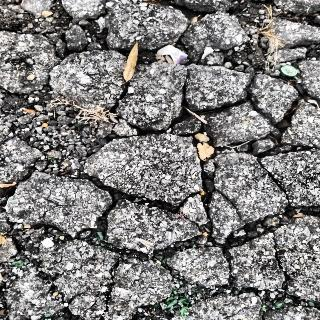crack: (87, 179, 184, 215), (172, 207, 222, 254), (252, 162, 296, 206), (120, 116, 197, 140), (36, 266, 80, 308), (181, 96, 249, 118), (104, 249, 122, 312), (220, 254, 243, 297)
pothole: (1, 89, 121, 179), (0, 0, 111, 51), (224, 205, 320, 254), (222, 0, 281, 75), (249, 94, 313, 160), (5, 218, 75, 254), (196, 121, 223, 207), (115, 42, 198, 68), (279, 42, 320, 94), (255, 286, 320, 313), (168, 1, 218, 24), (76, 215, 112, 246)
